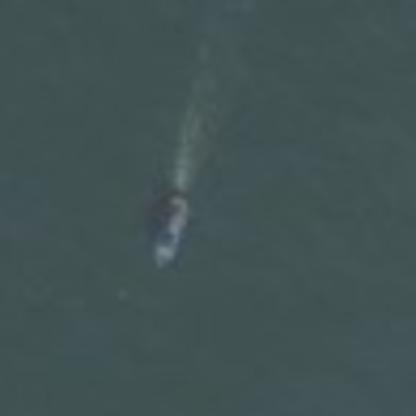ship: (146, 185, 194, 275)
